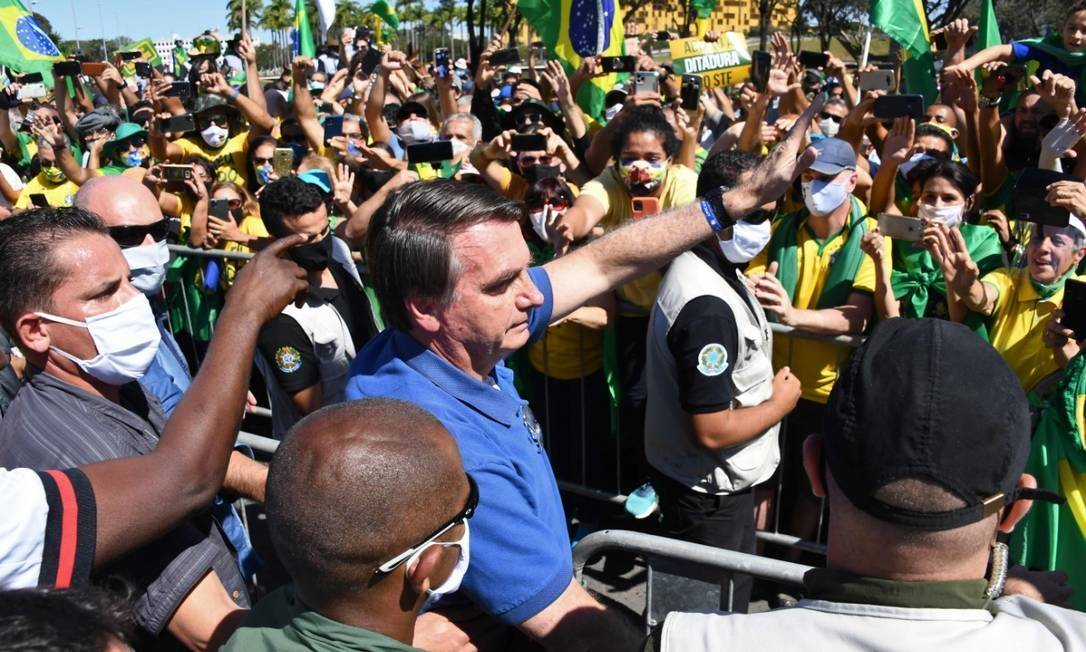mask_weared_incorrect: (392, 102, 439, 142), (80, 118, 111, 156)
with_mask: (11, 236, 165, 390), (84, 187, 174, 290), (607, 126, 677, 193), (275, 207, 338, 273), (912, 180, 970, 232), (800, 157, 851, 216), (195, 108, 232, 148)
without_mask: (398, 217, 552, 355), (1026, 226, 1084, 281), (1012, 93, 1047, 137), (1061, 14, 1086, 52)
